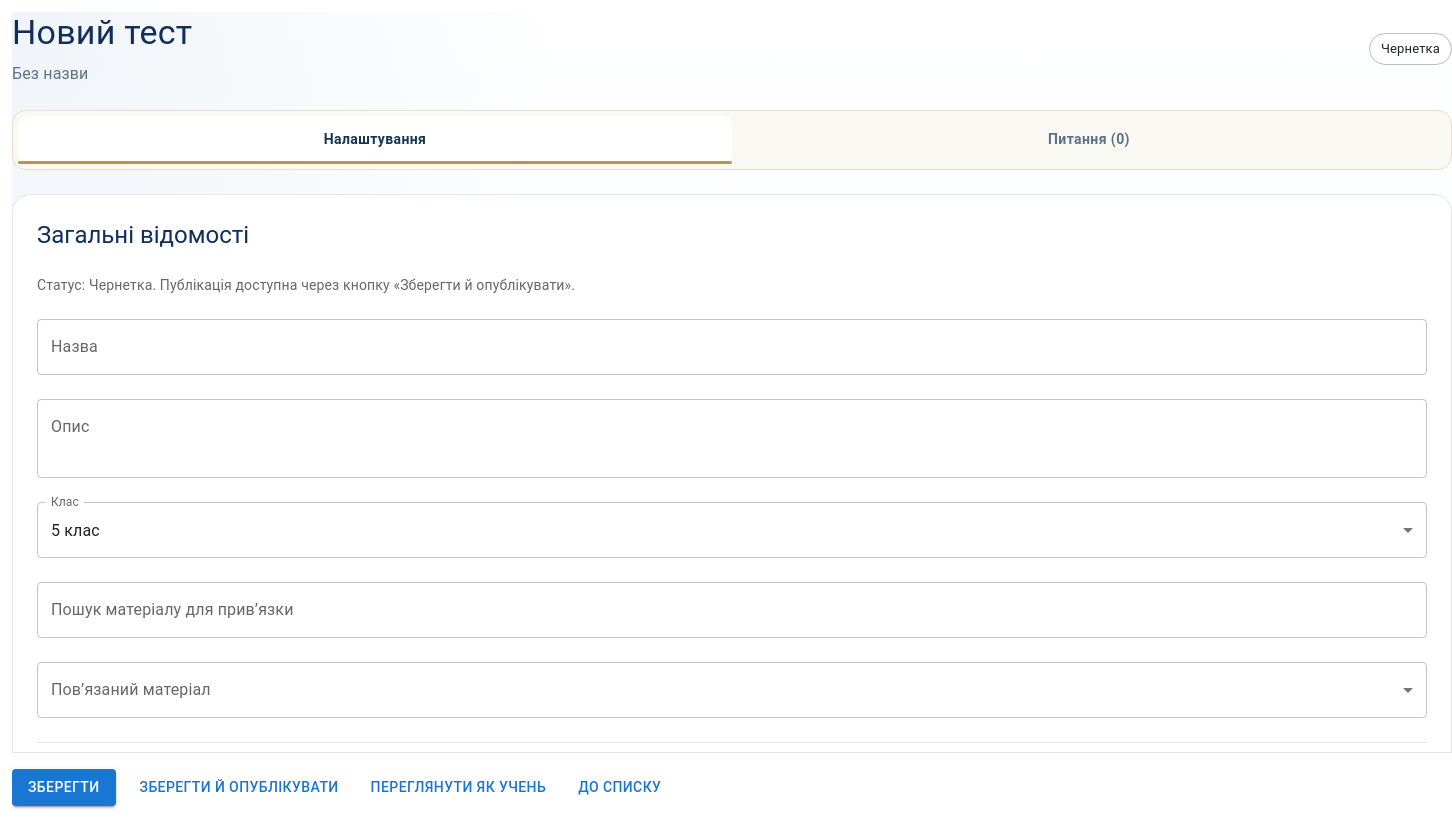
saves a new draft and navigates to its persistent editor
Type "Нова чернетка" into the field labelled "Назва".
click(732, 347); type("Нова чернетка")  # box x1=37 y1=319 x2=1427 y2=375
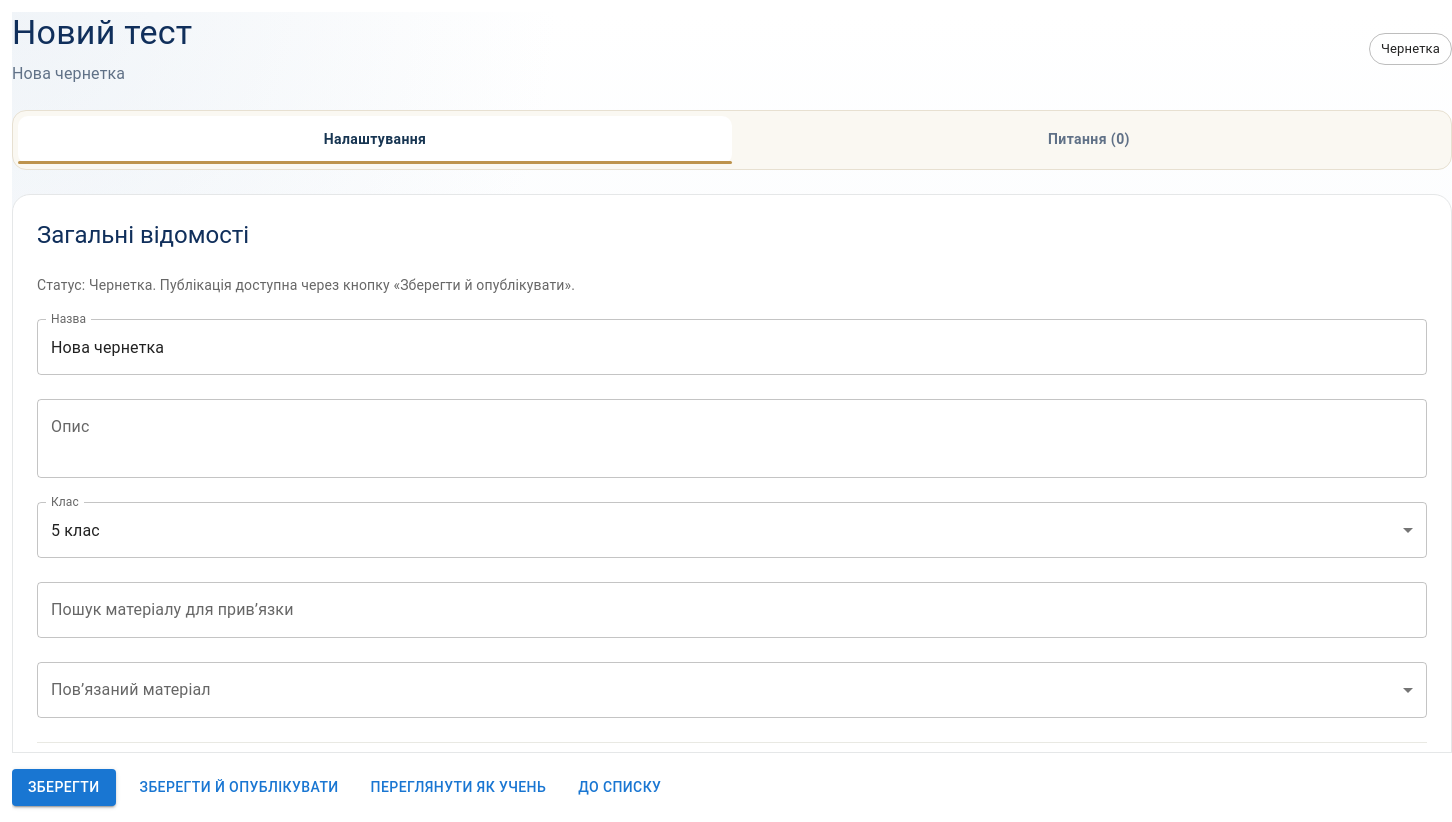
Click the button "Зберегти".
click(64, 788)  # box x1=12 y1=770 x2=116 y2=806
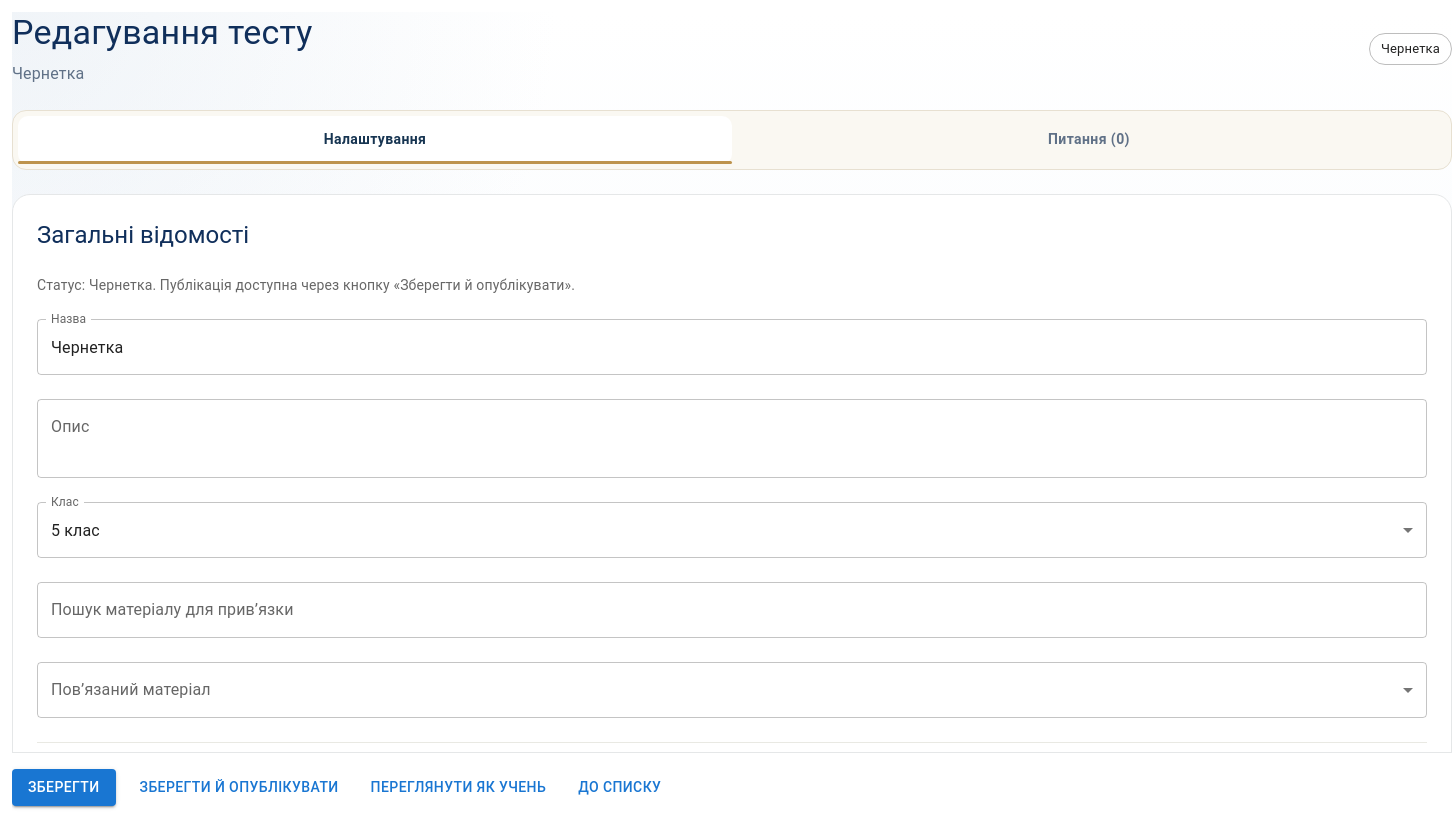
Result: the heading "Редагування тесту" is shown at x1=12 y1=12 x2=313 y2=54
